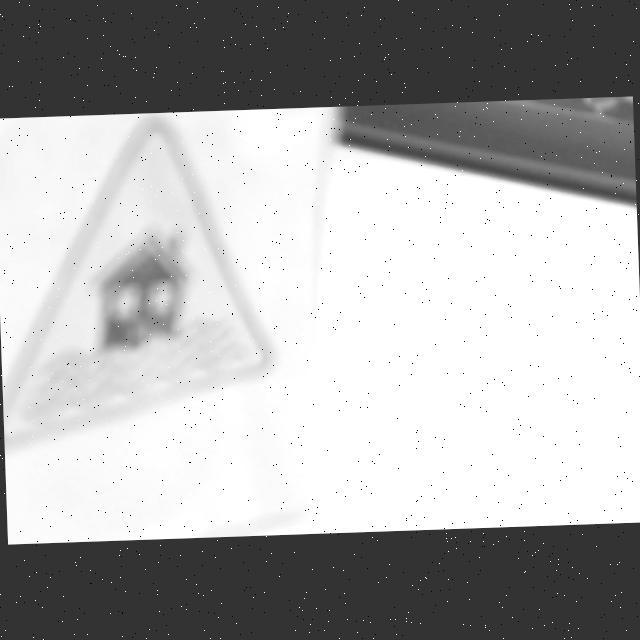Tsunami: (2, 115, 267, 439)
